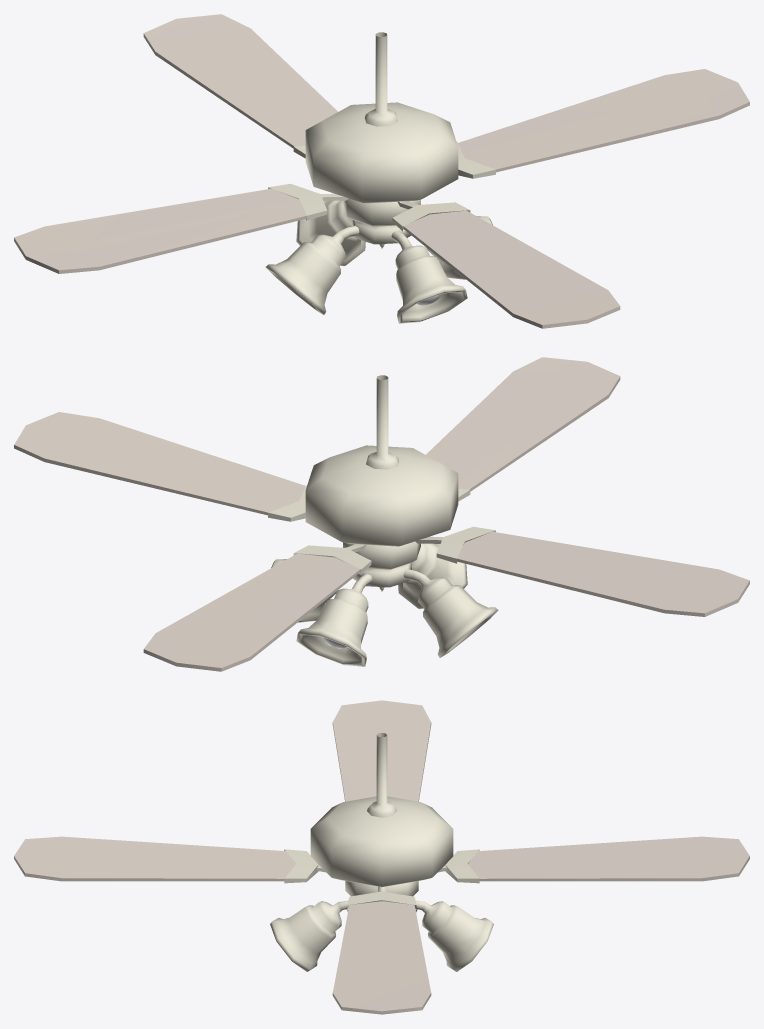
Rendered from Fan_A_1.fbx.
3 renders of one model, top to bottom at view 1: azimuth 30°, elevation 25°; view 2: azimuth 150°, elevation 25°; view 3: azimuth 270°, elevation 25°, orthographic. The views are drawn at different scales.
Parts seen in each view (by area): view 1: Fan_A_1_Blades, Fan_A_1, Fan_A_1_Lights; view 2: Fan_A_1_Blades, Fan_A_1, Fan_A_1_Lights; view 3: Fan_A_1_Blades, Fan_A_1, Fan_A_1_Lights.
Boxes of the visible parts, x1,y1,x2,y2 form: Fan_A_1_Blades: [14, 14, 749, 328]; Fan_A_1: [305, 32, 458, 248]; Fan_A_1_Lights: [265, 200, 492, 323]; Fan_A_1_Blades: [14, 357, 749, 671]; Fan_A_1: [305, 375, 458, 591]; Fan_A_1_Lights: [271, 543, 498, 666]; Fan_A_1_Blades: [14, 700, 749, 1014]; Fan_A_1: [310, 733, 453, 896]; Fan_A_1_Lights: [270, 900, 493, 971].
Bounding box in the file's own units: 138 × 48.22 × 138.
Materials: 1 (1 with a texture image).
